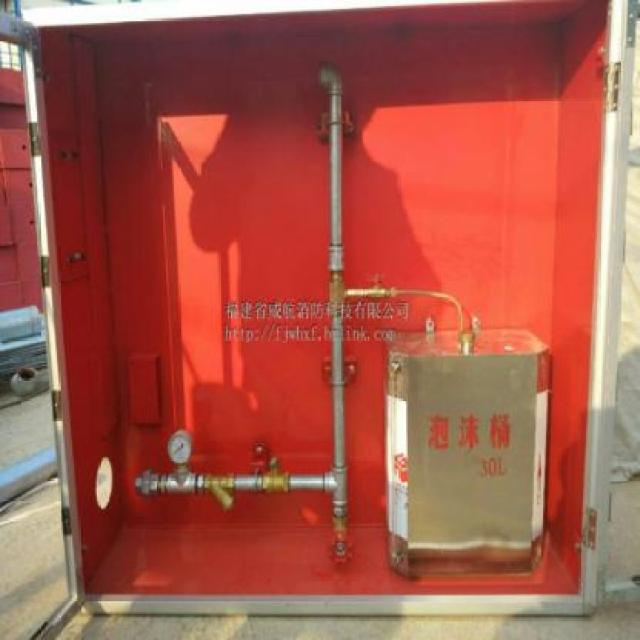firehydrant: (13, 0, 632, 620)
